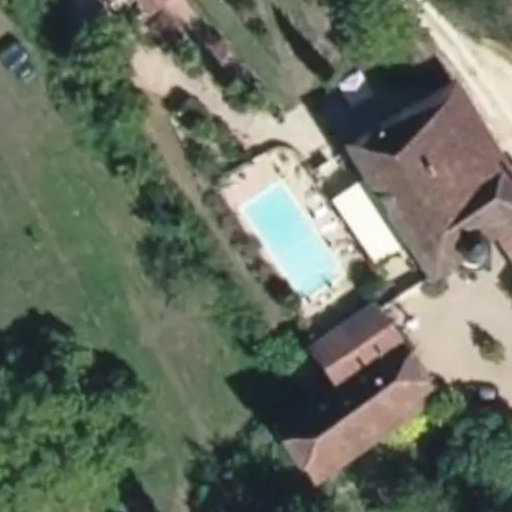pool: (236, 178, 341, 301)
